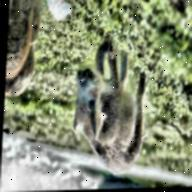boar: (61, 43, 174, 176)
